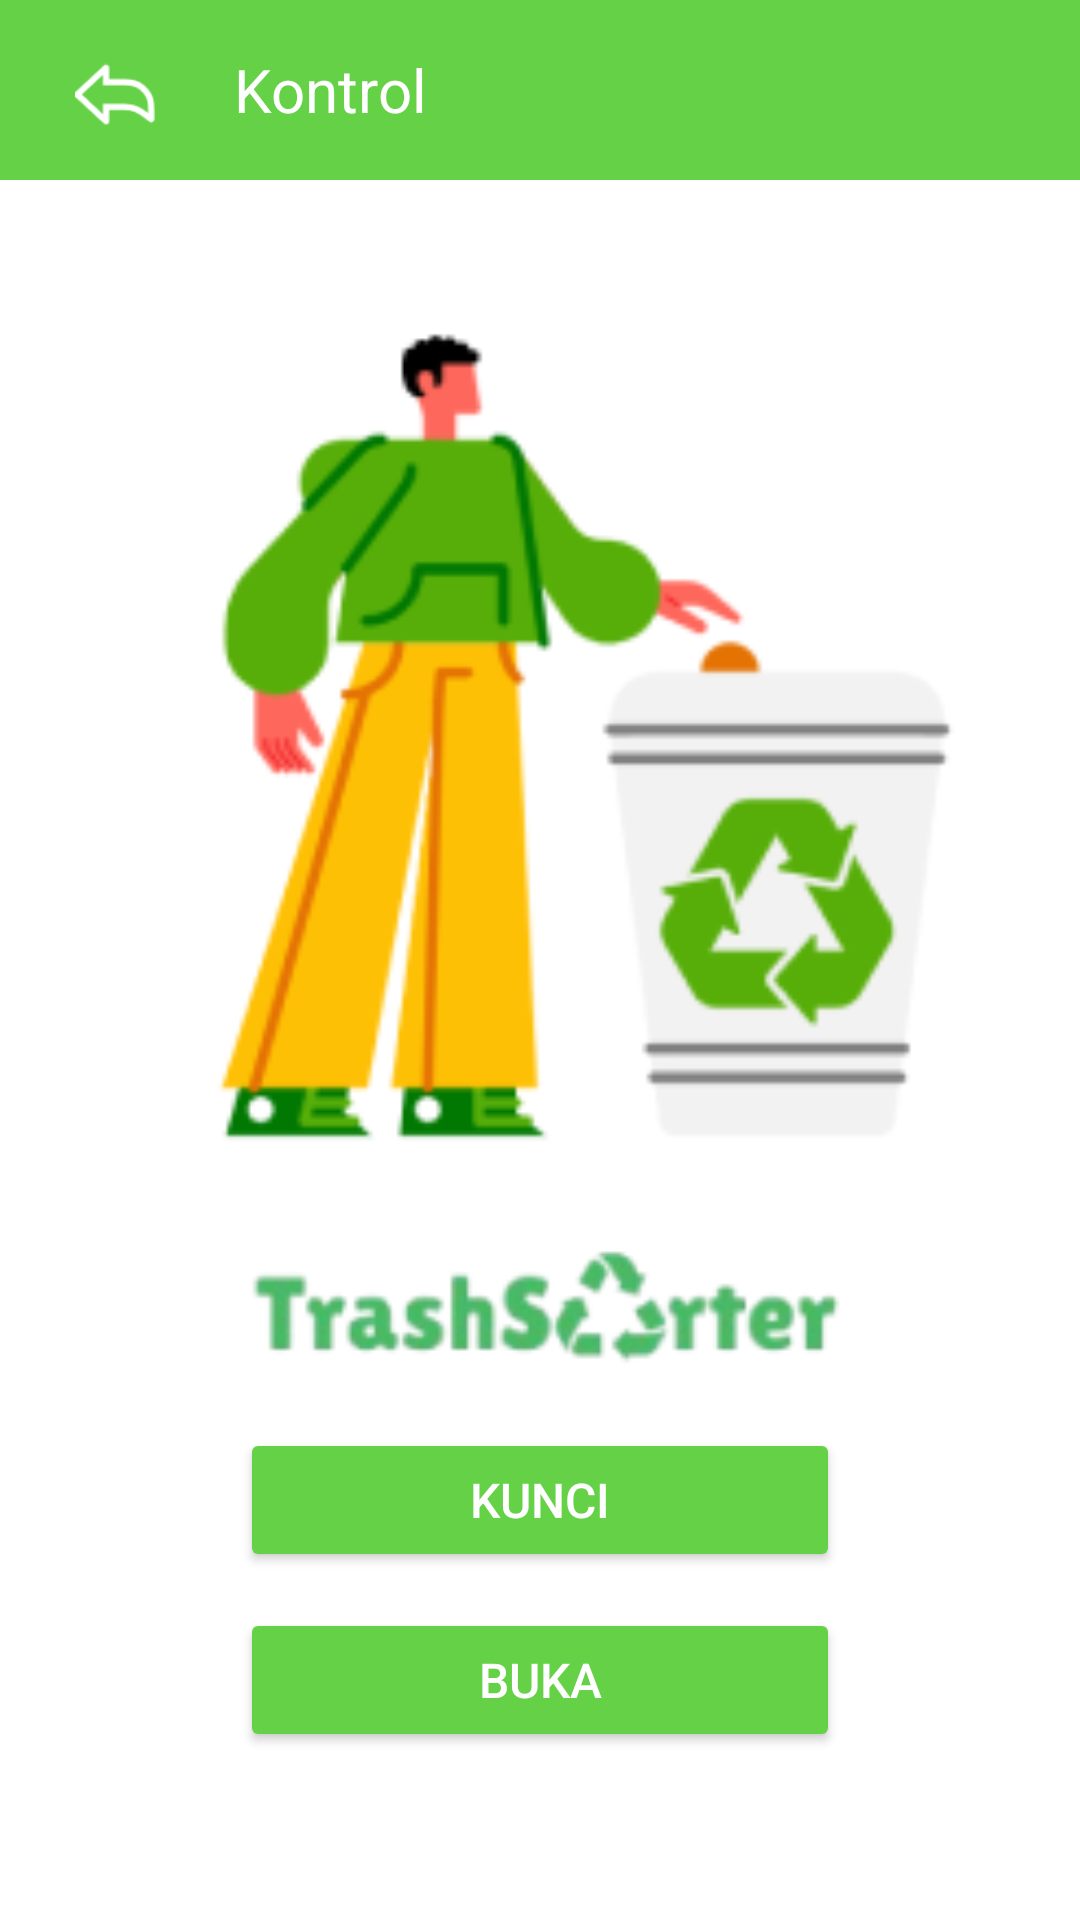

Named icons in this screenshot (1080px x 1920px) and their bounding boxes, BBox(x1, y1, x2, y2):
Kembali: BBox(75, 64, 155, 125)
